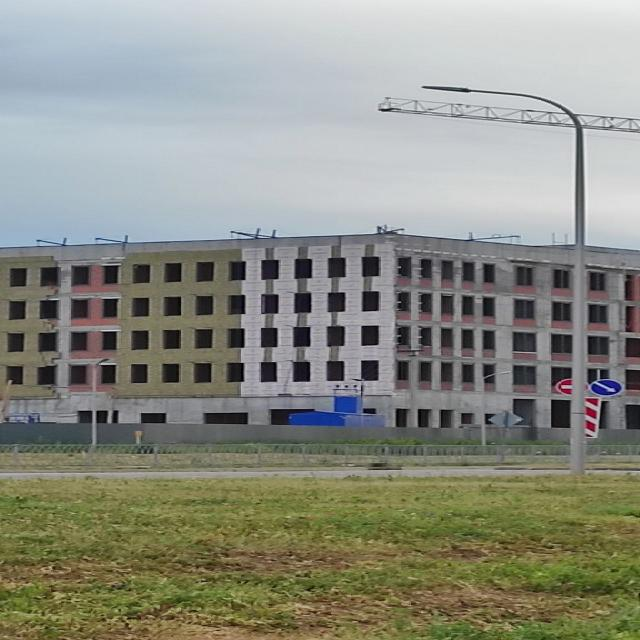Building: (0, 234, 640, 422)
